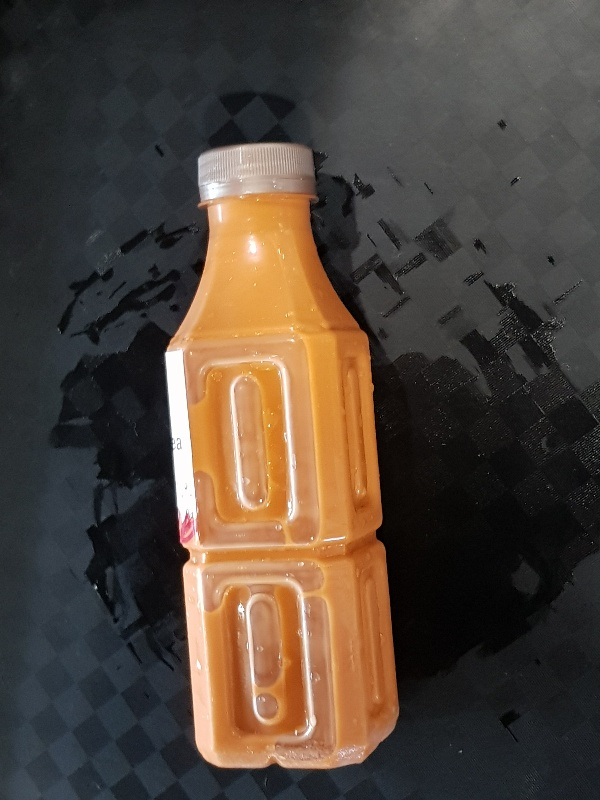Thai Milk Tea: (165, 138, 401, 771)
